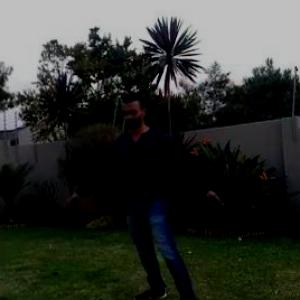land: (55, 78, 242, 299)
